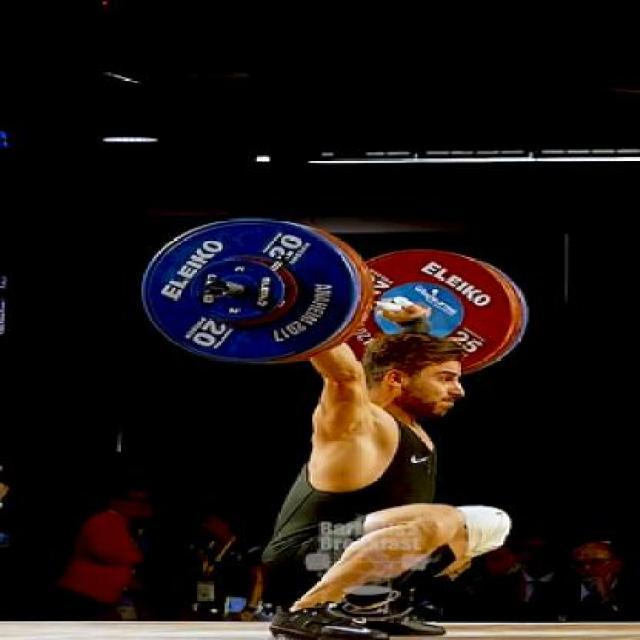Barbell: (199, 276, 236, 299)
